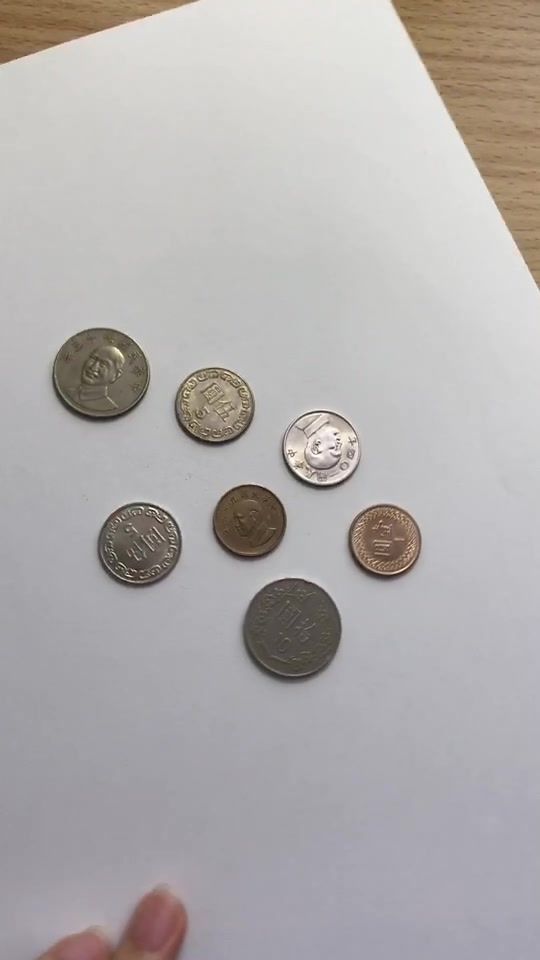1 dallar: (204, 476, 297, 567), (340, 494, 433, 585)
10 dallar: (46, 317, 160, 430), (235, 570, 349, 683)
5 dallar: (87, 494, 195, 591), (162, 355, 270, 452), (273, 391, 381, 488)
